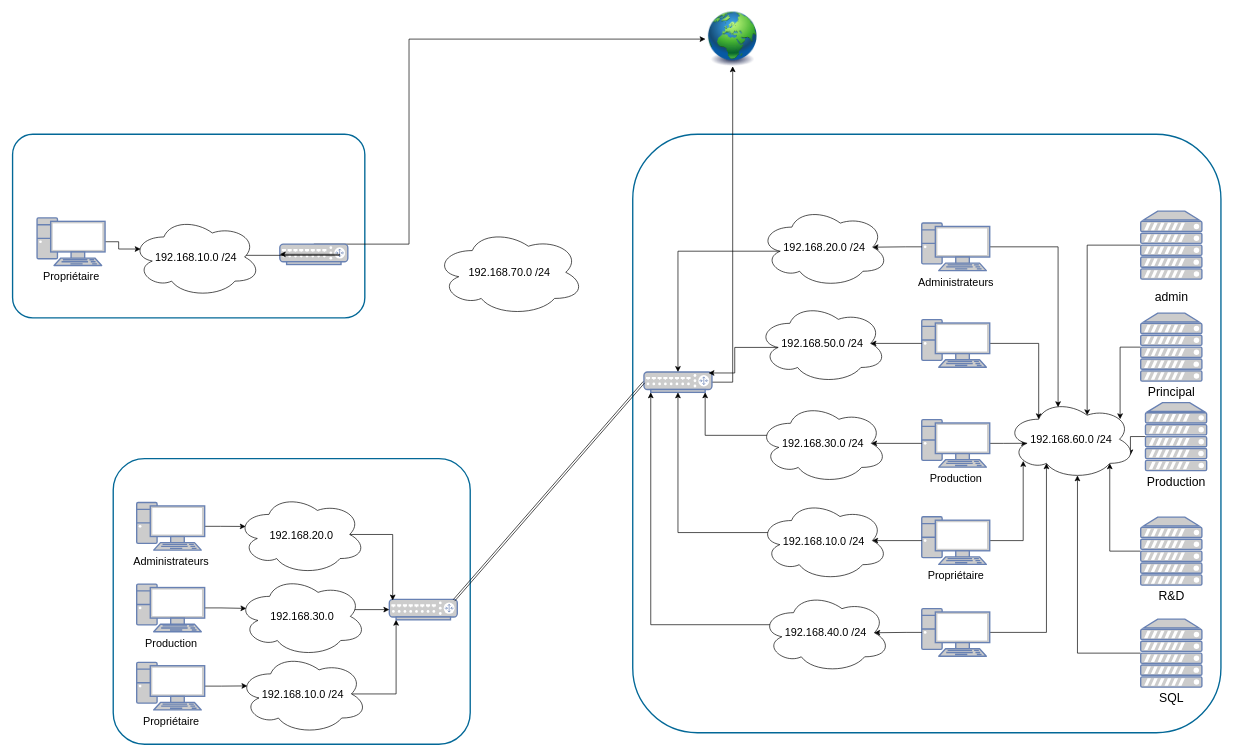
Image size: 1233x756. Some labels were removed from this diagram. The box of each missing label's shape, as (x1, y1, x2, y2) in pixels:
Entrepôt: (112, 458, 471, 745)
Informaticiens: (921, 319, 990, 368)
R_E: (388, 598, 458, 620)
R_P: (279, 243, 348, 265)
R_SS: (643, 371, 712, 393)
Recherche et développement: (921, 608, 990, 657)
Siège social: (632, 133, 1221, 733)
Sous-sol propriétaire: (12, 133, 365, 318)
